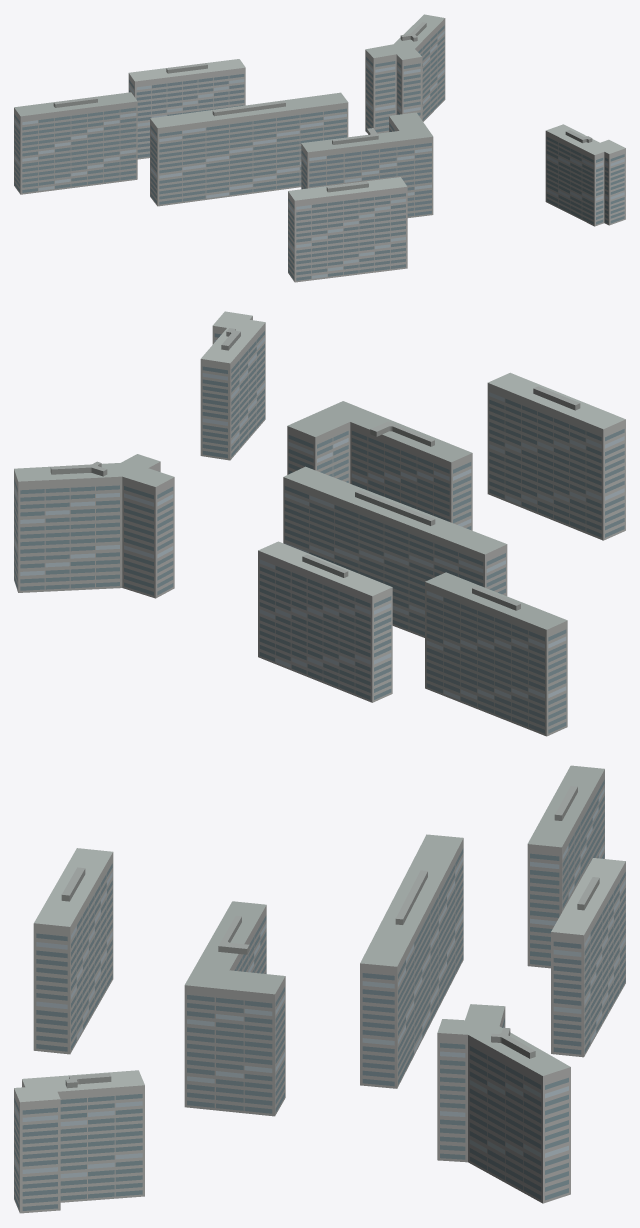
The model's file is apt-a13186708.glb.
3 renders of one model, top to bottom at view 1: azimuth 30°, elevation 25°; view 2: azimuth 150°, elevation 25°; view 3: azimuth 270°, elevation 25°, orthographic. The views are drawn at different scales.
Parts seen in each view (by area): view 1: apt-a13186708; view 2: apt-a13186708; view 3: apt-a13186708.
Boxes of the visible parts, x1,y1,x2,y2 form: apt-a13186708: [14, 14, 625, 282]; apt-a13186708: [14, 311, 625, 736]; apt-a13186708: [14, 765, 625, 1213].
Bounding box in the file's own units: 246 × 47 × 195.
